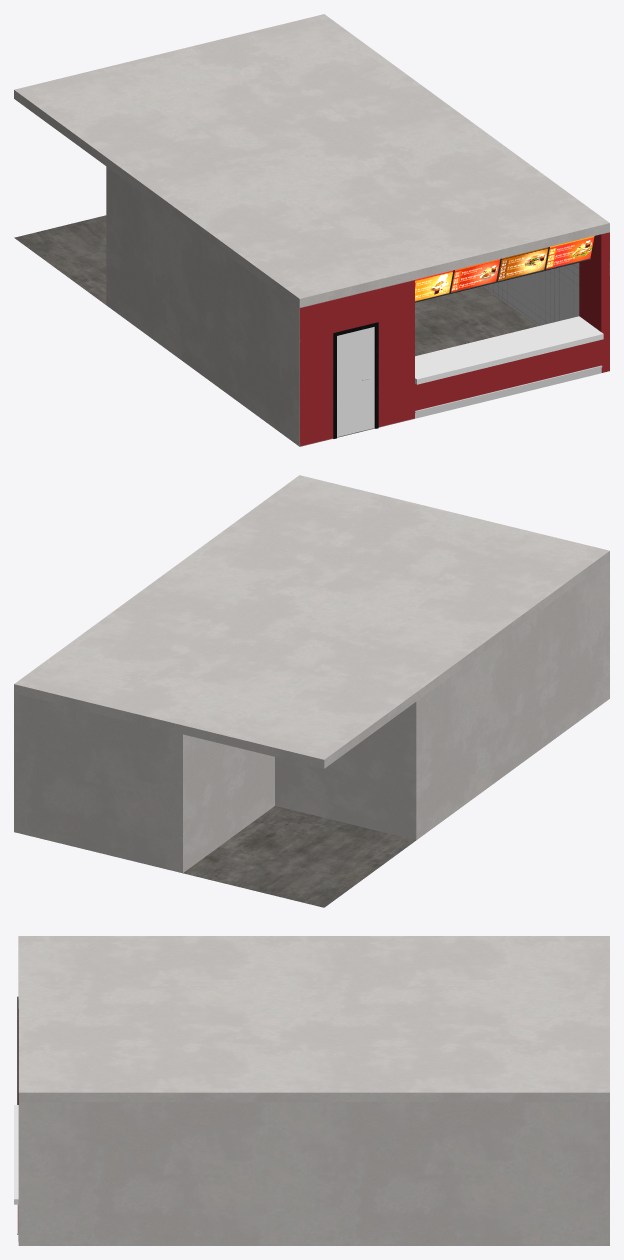
The model's file is Store_Visual.fbx.
3 views of the same model, one above another, from view 1: azimuth 30°, elevation 25°; view 2: azimuth 150°, elevation 25°; view 3: azimuth 270°, elevation 25° (orthographic). The views are drawn at different scales.
Visible parts, largest first — view 1: CeilingTop, MainWall, ServingCounter, MainFloor, FrontDoor, MenuScreen; view 2: CeilingTop, MainWall, MainFloor; view 3: CeilingTop, MainWall, ServingCounter.
Part boxes in pixels (left/top/right/bottom): CeilingTop: left=14, top=14, right=609, bottom=307; MainWall: left=106, top=166, right=609, bottom=446; ServingCounter: left=415, top=316, right=603, bottom=418; MainFloor: left=14, top=215, right=536, bottom=437; FrontDoor: left=333, top=322, right=378, bottom=438; MenuScreen: left=415, top=236, right=594, bottom=302; CeilingTop: left=14, top=475, right=609, bottom=768; MainWall: left=14, top=560, right=609, bottom=873; MainFloor: left=183, top=806, right=415, bottom=907; CeilingTop: left=18, top=936, right=609, bottom=1101; MainWall: left=18, top=1009, right=609, bottom=1245; ServingCounter: left=14, top=1105, right=18, bottom=1241.
Bounding box in the file's own units: 721 × 328 × 1158.
